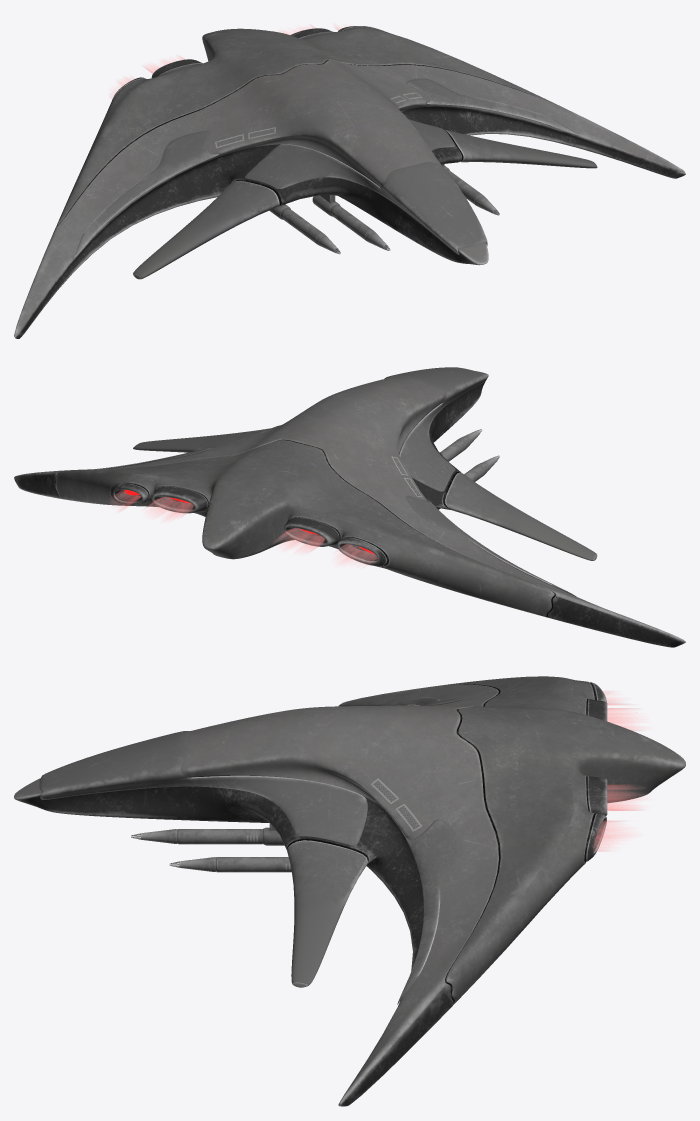
Rendered from spaceship_ezno (1).glb.
3 views of the same model, one above another, from view 1: azimuth 30°, elevation 25°; view 2: azimuth 150°, elevation 25°; view 3: azimuth 270°, elevation 25° (orthographic). The views are drawn at different scales.
Visible parts, largest first — view 1: Ship_Body, Armor, Guns; view 2: Ship_Body, Armor, Thruster Energy, Guns; view 3: Ship_Body, Armor, Guns, Thruster Energy.
Boxes of the visible parts, left/top/right/bottom form: Ship_Body: left=14, top=26, right=685, bottom=338; Armor: left=74, top=78, right=577, bottom=257; Guns: left=269, top=164, right=499, bottom=254; Ship_Body: left=14, top=371, right=685, bottom=647; Armor: left=94, top=367, right=576, bottom=596; Thruster Energy: left=113, top=490, right=377, bottom=565; Guns: left=438, top=429, right=499, bottom=509; Ship_Body: left=14, top=676, right=685, bottom=1106; Armor: left=39, top=697, right=464, bottom=1004; Guns: left=131, top=823, right=291, bottom=872; Thruster Energy: left=594, top=691, right=645, bottom=851.
Bounding box in the file's own units: 24.37 × 5.59 × 17.34.
2 materials, 2 textured.
